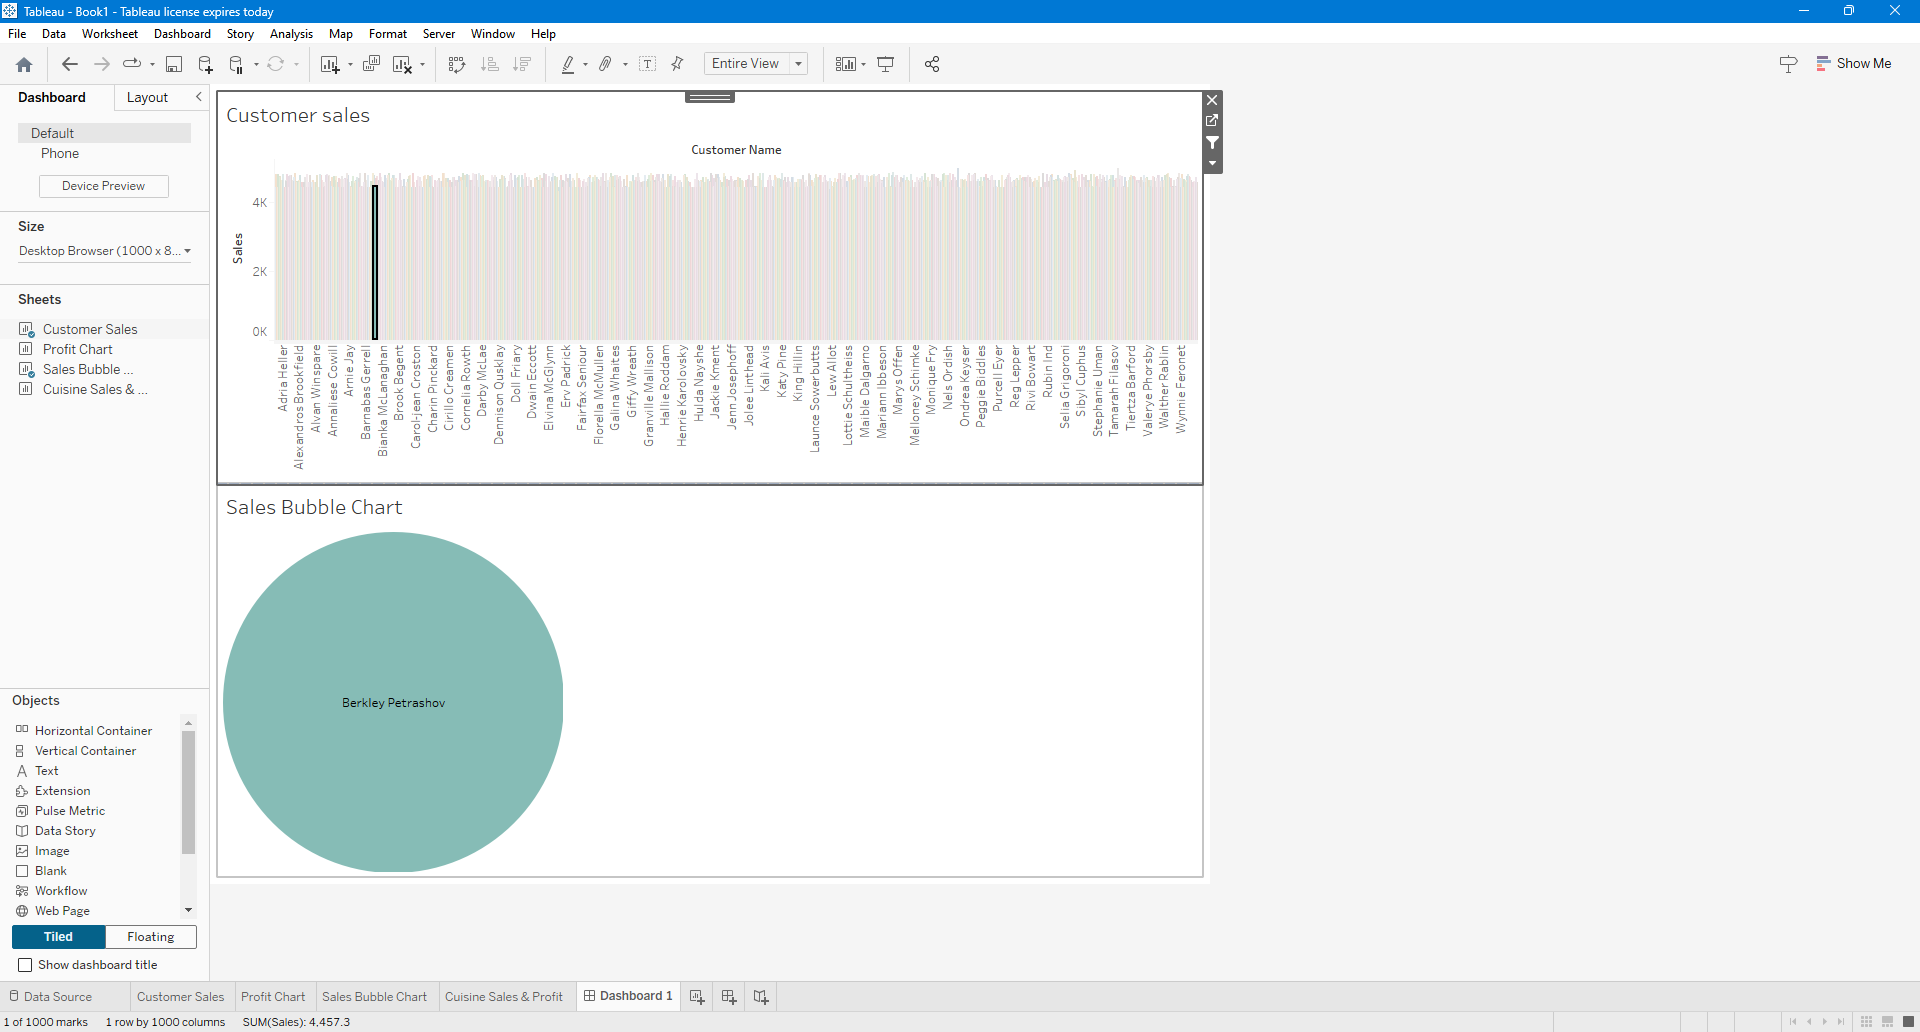

What the dashboard file says about the page in this screenshot:
{"tool":"tableau","page":{"name":"Dashboard 1","canvas":[1000,800],"ordinal":0},"visuals":[{"type":"worksheet","title":"Customer Sales","mark":"Automatic","rows":["Sales"],"cols":["Customer Name"],"box":[8,8,984,392]},{"type":"worksheet","title":"Sales Bubble Chart","mark":"Circle","box":[8,400,984,392]}]}

Visuals, with their boxes on the page's 1000x800 design canvas (x1, y1, x2, y2). These are canvas units, not pixel positions in the 1920x1032 screenshot, which may show the page scaled, cropped or inside an application window:
"Customer Sales" worksheet: x1=8 y1=8 x2=992 y2=400
"Sales Bubble Chart" worksheet (Circle marks): x1=8 y1=400 x2=992 y2=792
